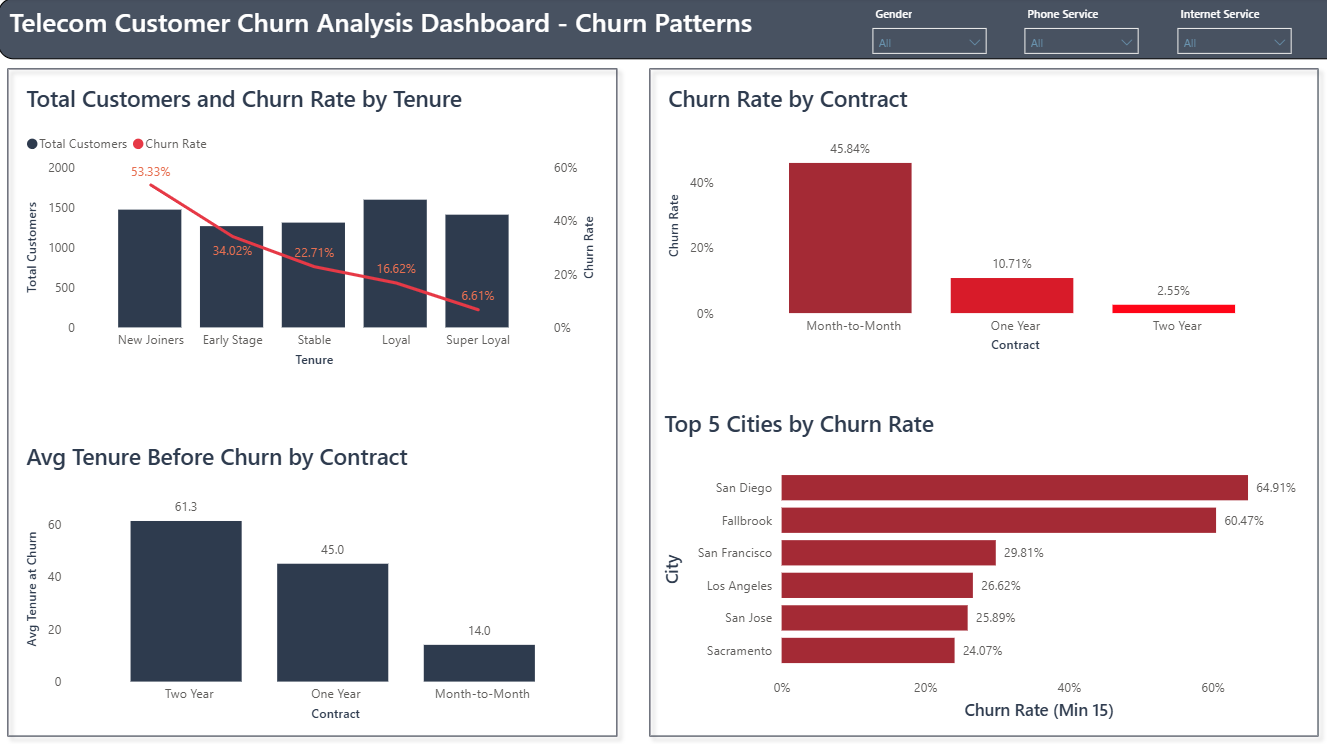

Layout of this report page (visuals, bound fields, positions):
{"tool":"powerbi","page":{"name":"Page 2","canvas":[1280,720],"ordinal":1},"visuals":[{"type":"textbox","title":"Telecom Customer Churn Analysis Dashboard - Churn Patterns","box":[0,0,1489.4,58.8],"z":0},{"type":"shape","box":[0,58.8,605.1,661.1],"z":1000},{"type":"lineClusteredColumnComboChart","fields":{"Category":["Churn.Tenure"],"Y":["Churn.Total Customers"],"Y2":["Churn.Churn Rate"]},"box":[22,81.7,562,278.2],"z":2000},{"type":"clusteredColumnChart","title":"Avg Tenure Before Churn by Contract","fields":{"Category":["Churn.Contract"],"Y":["Churn.Avg Tenure at Churn"]},"box":[22,426.1,562,274.5],"z":3000},{"type":"shape","box":[618,58.8,662,661.1],"z":4000},{"type":"clusteredColumnChart","fields":{"Category":["Churn.Contract"],"Y":["Churn.Churn Rate"]},"box":[640,81.7,624.4,264.4],"z":5000},{"type":"clusteredBarChart","title":"Top 5 Cities by Churn Rate","fields":{"Category":["Churn.City"],"Y":["Churn.Churn Rate (Min 15)"]},"box":[636.3,394.8,630.8,305.8],"z":6000},{"type":"slicer","fields":{"Values":["Churn.Gender"]},"box":[831.2,4.8,130,50],"z":7000},{"type":"slicer","fields":{"Values":["Churn.Phone Service"]},"box":[978.1,4.8,130,50],"z":8000},{"type":"slicer","fields":{"Values":["Churn.Internet Service"]},"box":[1125,4.8,130,50],"z":9000}]}

Visuals, with their boxes in screenshot pixels (x1, y1, x2, y2), scaled from the page's 1280x720 canvas onto the 1327x744 screenshot:
"Telecom Customer Churn Analysis Dashboard - Churn Patterns" textbox: [x1=0, y1=0, x2=1326, y2=61]
shape: [x1=0, y1=61, x2=627, y2=743]
lineClusteredColumnComboChart - Churn.Tenure x Churn.Total Customers: [x1=23, y1=84, x2=605, y2=372]
"Avg Tenure Before Churn by Contract" clusteredColumnChart: [x1=23, y1=440, x2=605, y2=724]
shape: [x1=641, y1=61, x2=1326, y2=743]
clusteredColumnChart - Churn.Contract x Churn.Churn Rate: [x1=664, y1=84, x2=1311, y2=358]
"Top 5 Cities by Churn Rate" clusteredBarChart: [x1=660, y1=408, x2=1314, y2=724]
slicer - Churn.Gender: [x1=862, y1=5, x2=996, y2=57]
slicer - Churn.Phone Service: [x1=1014, y1=5, x2=1149, y2=57]
slicer - Churn.Internet Service: [x1=1166, y1=5, x2=1301, y2=57]
